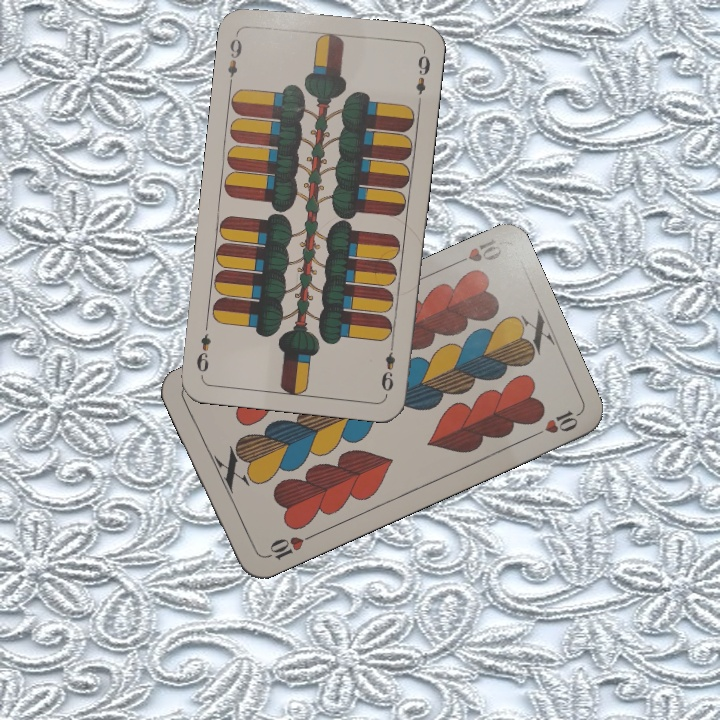E9: (223, 29, 245, 88), (377, 338, 398, 394)
H10: (447, 235, 505, 269), (260, 530, 316, 563)
